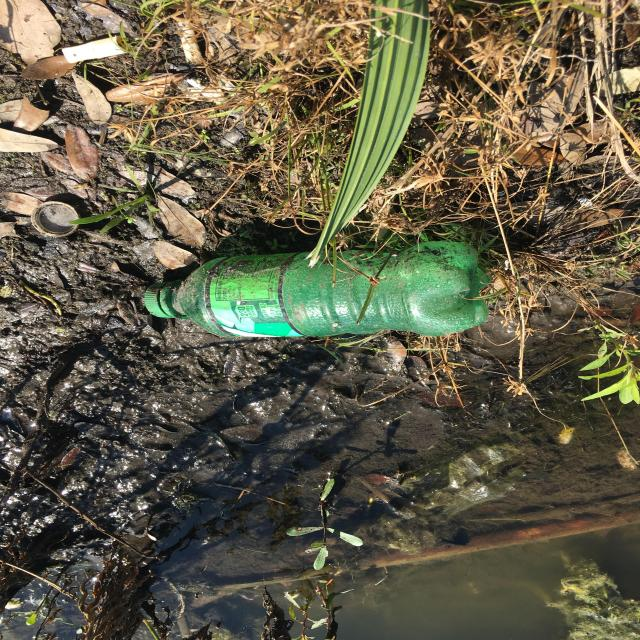litter: (145, 243, 491, 338), (31, 203, 79, 236)
